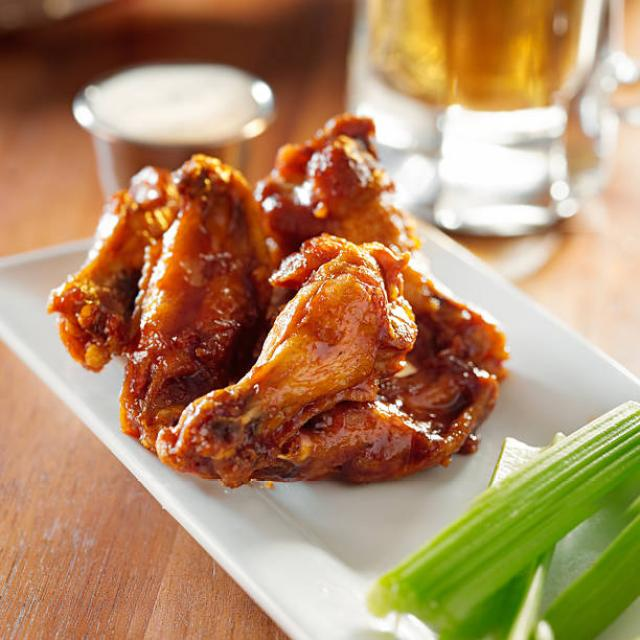Frango: (45, 110, 512, 489)
